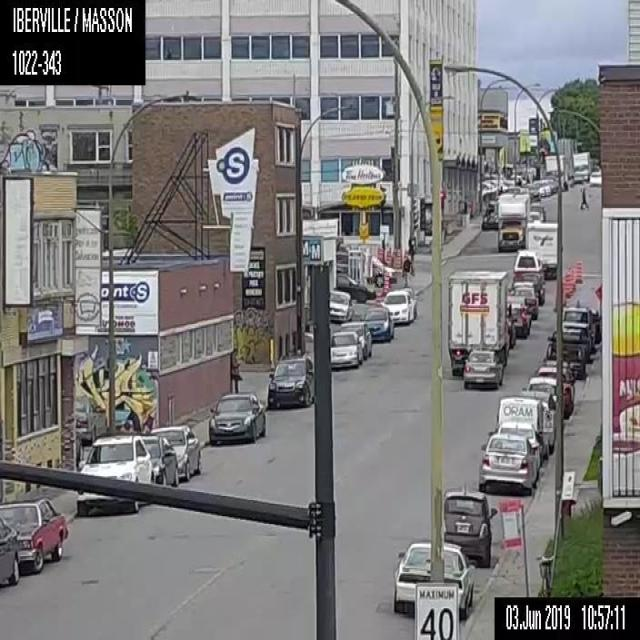construction: (574, 258, 583, 284), (594, 285, 602, 312), (393, 248, 401, 271), (568, 267, 575, 291), (564, 270, 570, 297), (376, 244, 384, 262), (383, 274, 389, 296), (385, 248, 391, 268), (375, 288, 382, 305)
pedestrian: (230, 347, 242, 393), (401, 253, 411, 287), (578, 185, 589, 211), (498, 185, 503, 195)
vehicle: (391, 538, 474, 624), (448, 266, 514, 373), (76, 434, 153, 516), (0, 495, 67, 577), (438, 482, 498, 567), (478, 430, 537, 496), (496, 393, 550, 462), (207, 392, 266, 445), (150, 423, 200, 480), (492, 418, 540, 474), (265, 352, 312, 408), (532, 366, 574, 420), (546, 328, 588, 381), (524, 222, 562, 278), (138, 434, 177, 486), (495, 192, 529, 250), (461, 349, 503, 389), (562, 306, 596, 352), (521, 375, 559, 416), (0, 514, 19, 586), (339, 321, 372, 360), (331, 329, 363, 368), (359, 307, 394, 342), (381, 289, 416, 324), (512, 248, 547, 282), (508, 280, 539, 317), (503, 294, 534, 330), (513, 272, 546, 302), (335, 272, 367, 302), (544, 154, 567, 192), (328, 289, 354, 321), (505, 308, 529, 338), (571, 150, 590, 184), (480, 200, 498, 229), (527, 202, 545, 223), (534, 179, 550, 197), (587, 167, 601, 186)
